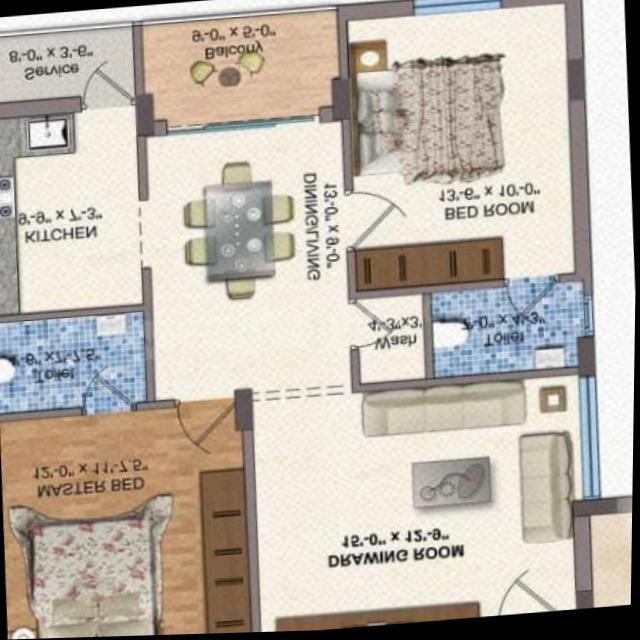Balcony-Sitout: (140, 11, 341, 126)
Bedroom with Toilet: (341, 2, 586, 385), (0, 308, 255, 640)
Dining: (174, 137, 304, 321)
Enterance-Foyer: (487, 567, 584, 620)
Kitchen: (0, 105, 144, 314)
Living: (252, 382, 594, 634)
Toilet: (0, 313, 148, 409), (434, 287, 578, 377)
Utility: (0, 26, 134, 101)
